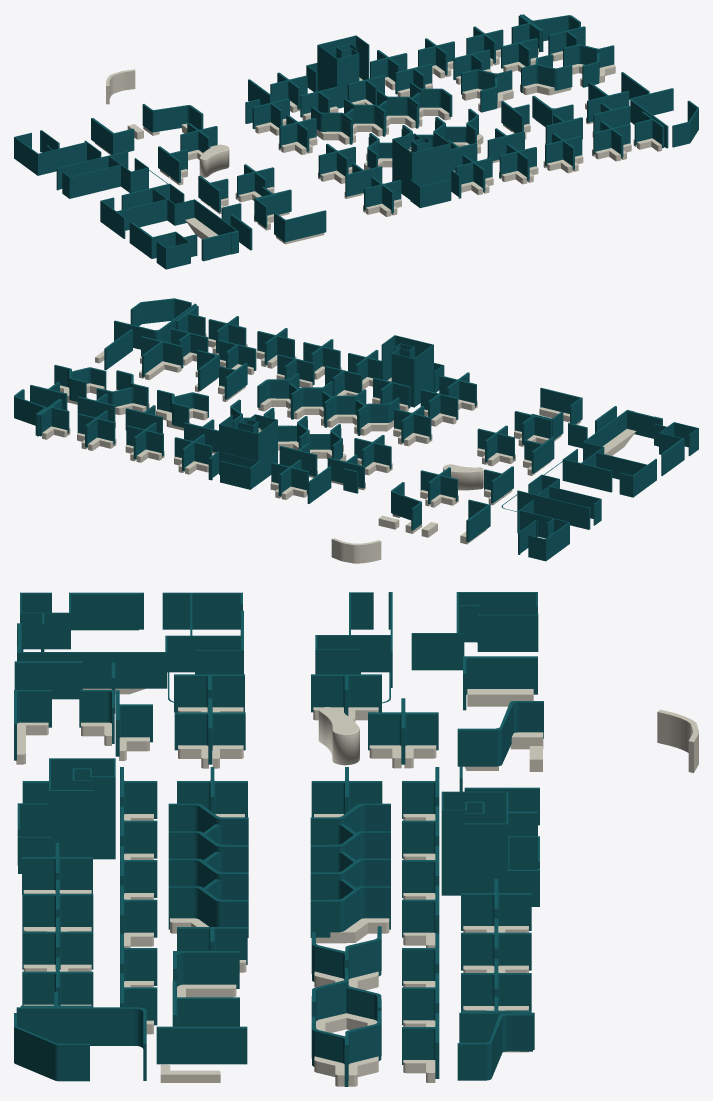
File: Obstacles.fbx
The picture shows the model from 3 angles, top to bottom: view 1: azimuth 30°, elevation 25°; view 2: azimuth 150°, elevation 25°; view 3: azimuth 270°, elevation 25°; orthographic projection. The views are drawn at different scales.
Parts seen in each view (by area): view 1: Walls, Obstacles, Stair walls, ExperienceDxb; view 2: Walls, Obstacles, Stair walls, ExperienceDxb; view 3: Walls, Obstacles, Stair walls, ExperienceDxb.
Boxes of the visible parts, x1,y1,x2,y2 form: Walls: (14,14,698,269); Obstacles: (95,43,661,244); Stair walls: (317,35,369,108); ExperienceDxb: (199,144,229,177); Walls: (14,298,698,561); Obstacles: (42,333,636,563); Stair walls: (219,414,277,482); ExperienceDxb: (443,464,483,490); Walls: (14,592,543,1086); Obstacles: (16,688,698,1086); Stair walls: (441,791,508,895); ExperienceDxb: (318,707,359,765).
Size of the model in its own units: 737 by 67.17 by 471.
